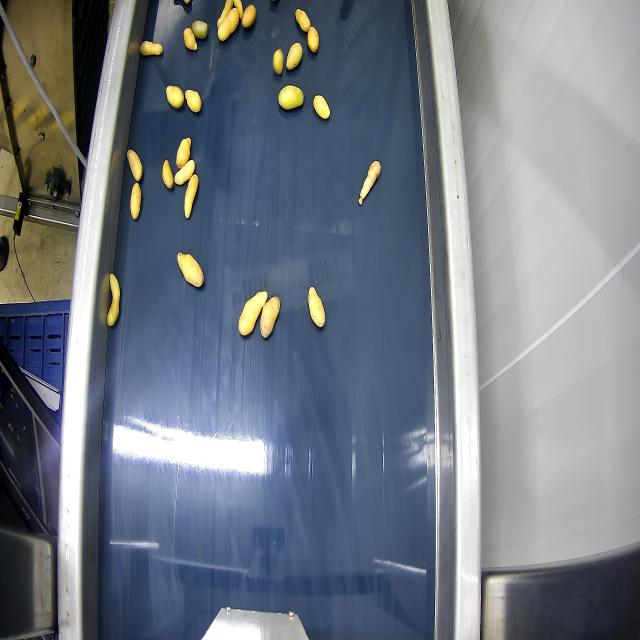Baby Potato: (238, 292, 267, 335), (359, 160, 380, 205), (177, 253, 203, 287), (260, 296, 279, 338), (107, 273, 120, 327), (308, 287, 325, 327), (218, 8, 239, 40), (279, 86, 303, 110), (185, 174, 198, 218), (127, 150, 142, 182), (175, 160, 194, 185), (176, 138, 191, 169), (286, 42, 302, 71), (217, 0, 232, 28), (130, 183, 141, 220), (166, 86, 183, 109), (313, 95, 329, 119), (185, 89, 201, 112), (241, 5, 256, 28), (295, 9, 310, 31), (191, 20, 208, 39), (162, 160, 173, 189), (307, 27, 319, 53), (140, 41, 162, 55), (183, 28, 197, 50), (273, 49, 283, 75), (233, 0, 243, 18)
